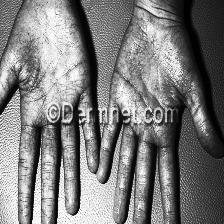Non-Cancerous Skin Condition: (29, 142, 175, 219), (132, 21, 194, 103), (24, 0, 78, 88)
